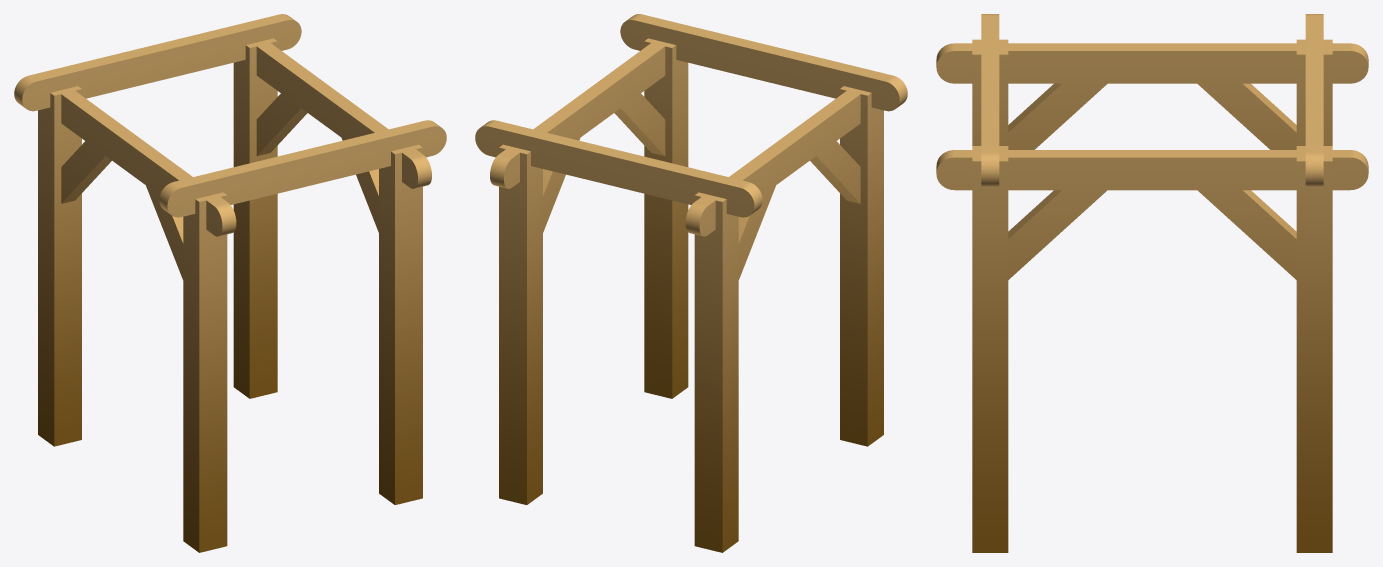
Rendered from WoodenTrellisUVdSingle.fbx.
3 renders of one model, left to right at view 1: azimuth 30°, elevation 25°; view 2: azimuth 150°, elevation 25°; view 3: azimuth 270°, elevation 25°, orthographic. The views are drawn at different scales.
Visible parts, largest first — view 1: Trellis; view 2: Trellis; view 3: Trellis.
Boxes of the visible parts, <box> form: Trellis: <box>14,14,446,552</box>; Trellis: <box>475,14,907,552</box>; Trellis: <box>936,14,1368,552</box>.
Bounding box in the file's own units: 10 × 12.5 × 12.
Materials: 1 (1 with a texture image).
